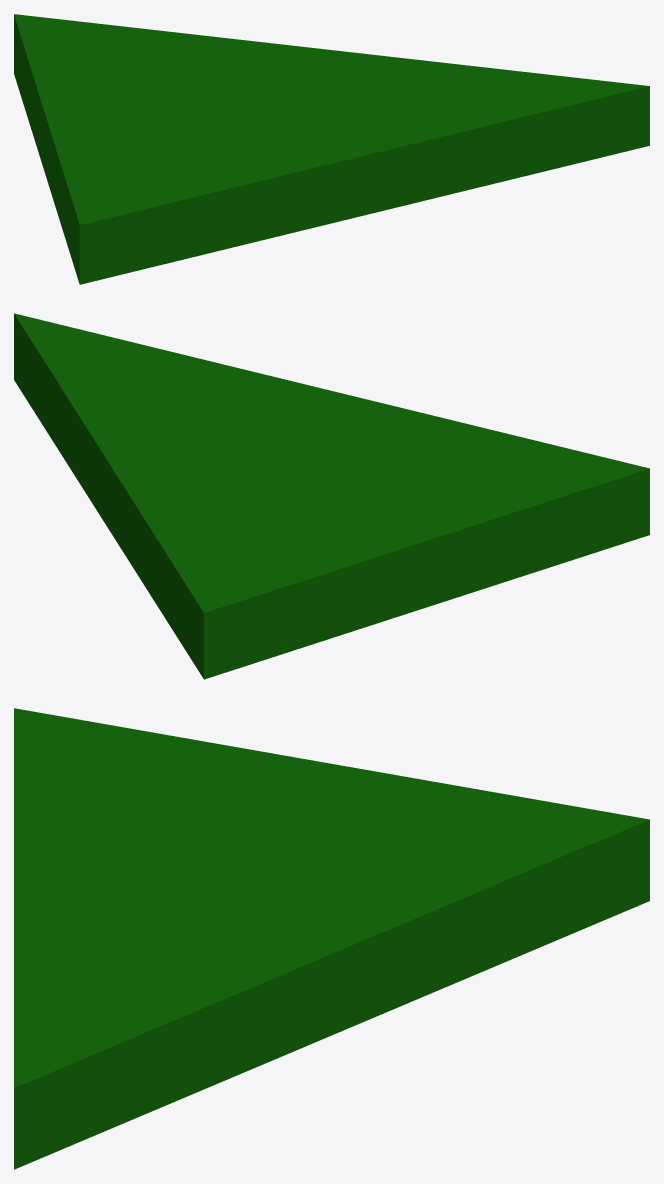
File: Item6.fbx
The picture shows the model from 3 angles, top to bottom: view 1: azimuth 30°, elevation 25°; view 2: azimuth 150°, elevation 25°; view 3: azimuth 270°, elevation 25°; orthographic projection. The views are drawn at different scales.
Parts seen in each view (by area): view 1: Cylinder.006; view 2: Cylinder.006; view 3: Cylinder.006.
Part boxes in pixels (x1,y1,x2,y2): Cylinder.006: (14,14,649,284); Cylinder.006: (14,313,649,679); Cylinder.006: (14,708,649,1169).
Size of the model in its own units: 200 by 20 by 141.
